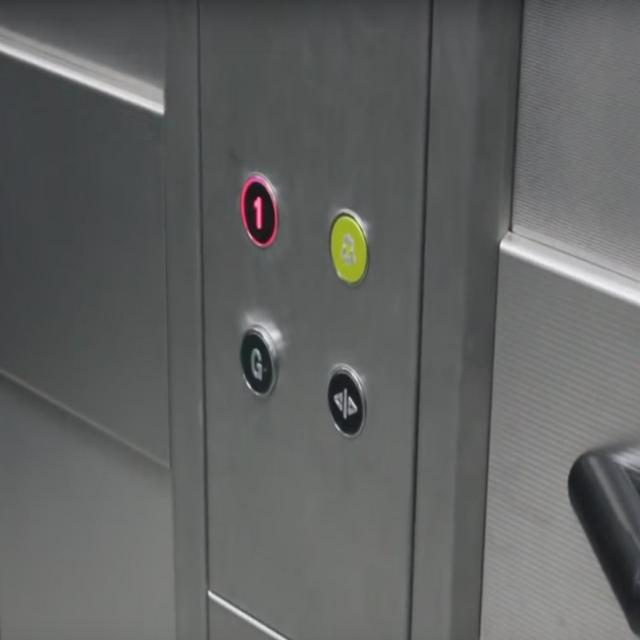1: (239, 171, 278, 249)
G: (238, 321, 278, 399)
alarm: (328, 207, 370, 285)
open: (327, 362, 366, 439)
